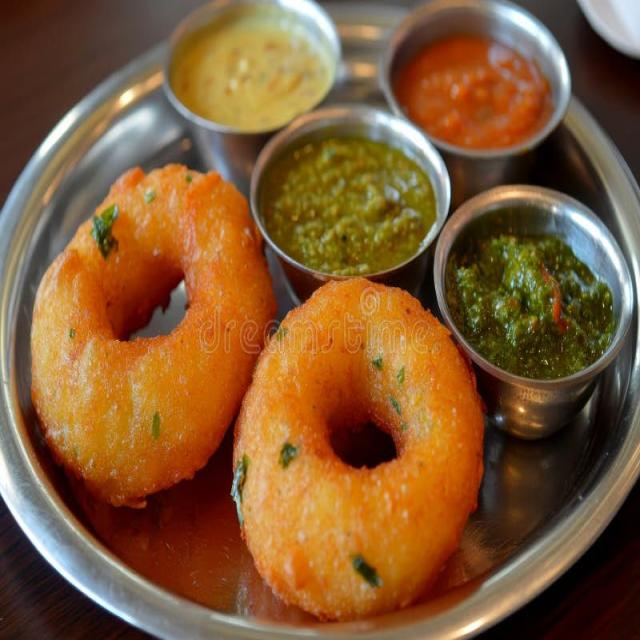MEDU VADA: (28, 164, 486, 623)
